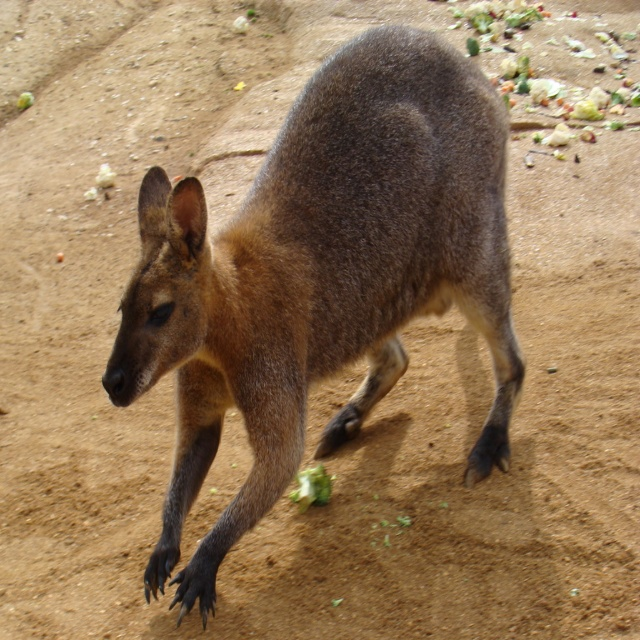Kangaroo: (101, 21, 530, 635)
